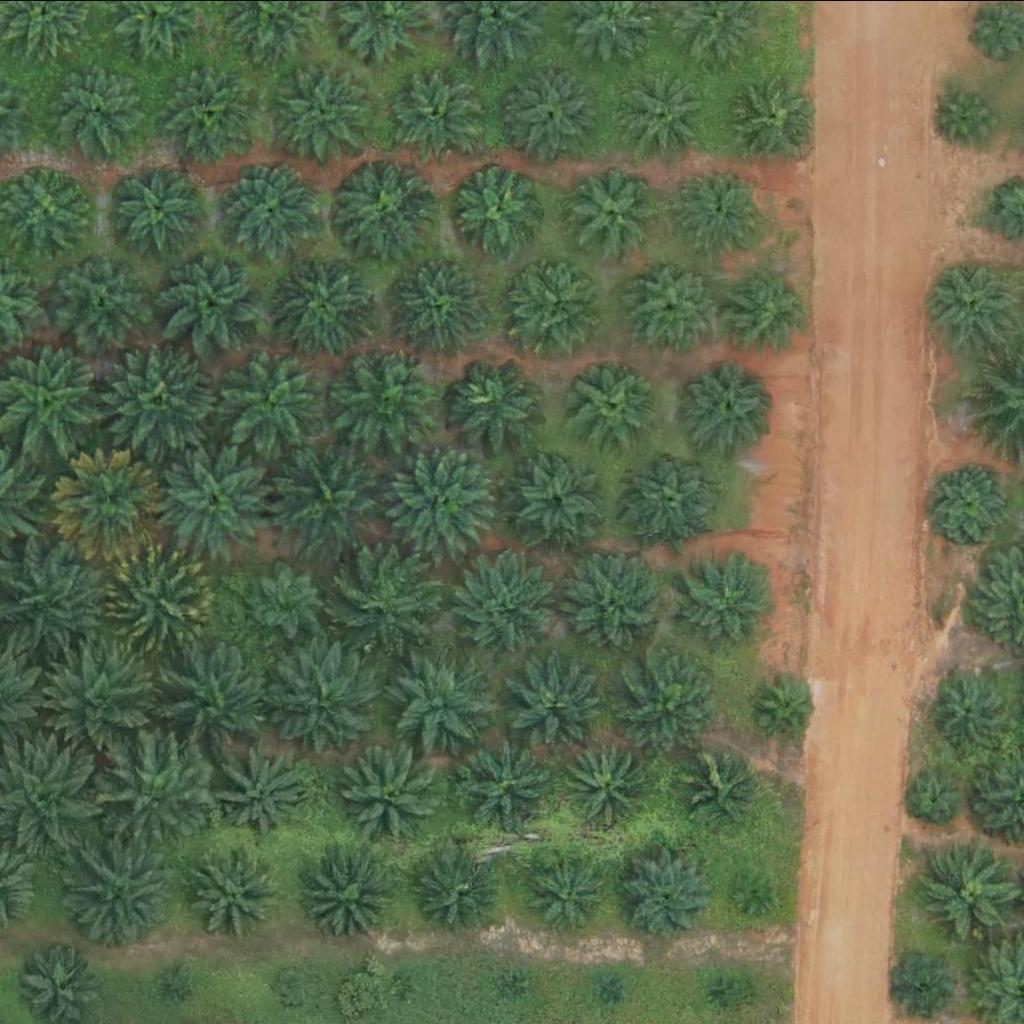Kelapa_Sawit: (393, 444, 507, 557), (62, 837, 176, 950), (221, 342, 334, 455), (54, 446, 167, 559), (103, 544, 216, 657), (155, 444, 268, 557), (273, 447, 386, 560), (160, 644, 274, 756), (263, 640, 377, 752), (96, 735, 210, 847), (103, 344, 216, 456), (47, 647, 160, 759), (611, 838, 724, 950), (44, 56, 145, 156), (161, 59, 262, 159), (270, 60, 371, 160), (387, 61, 488, 161), (503, 63, 604, 163), (221, 160, 322, 260), (334, 155, 435, 255), (52, 250, 153, 350), (161, 252, 262, 352), (277, 254, 378, 354), (387, 252, 488, 352), (331, 344, 432, 444), (392, 653, 493, 753), (341, 744, 442, 844), (453, 736, 554, 836), (620, 649, 721, 749), (565, 555, 666, 655), (675, 550, 776, 650), (920, 839, 1021, 939), (443, 355, 543, 455), (336, 548, 436, 648), (457, 555, 557, 655), (624, 444, 724, 544), (675, 352, 775, 452), (621, 250, 721, 350), (522, 844, 611, 932), (458, 165, 546, 253), (516, 459, 604, 547), (414, 847, 502, 935), (566, 738, 654, 826), (571, 165, 659, 253), (677, 163, 765, 251), (617, 67, 705, 155), (727, 70, 815, 158), (3, 166, 91, 253), (118, 163, 206, 250), (517, 260, 605, 347), (518, 659, 606, 746), (219, 747, 307, 834), (186, 847, 274, 934), (308, 854, 396, 941), (567, 357, 655, 444), (724, 263, 812, 350), (247, 564, 323, 639), (930, 463, 1006, 538), (684, 744, 759, 819), (933, 672, 1008, 747), (757, 677, 820, 740), (895, 954, 958, 1017), (938, 85, 1001, 147), (912, 772, 962, 822), (278, 965, 316, 1003), (733, 872, 771, 910), (163, 965, 188, 990), (393, 969, 418, 994), (509, 975, 534, 1000), (598, 974, 623, 999), (708, 981, 733, 1006)
